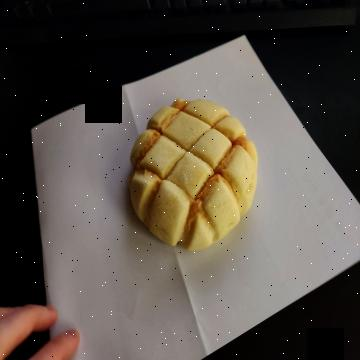melon_bread: (130, 95, 260, 252)
